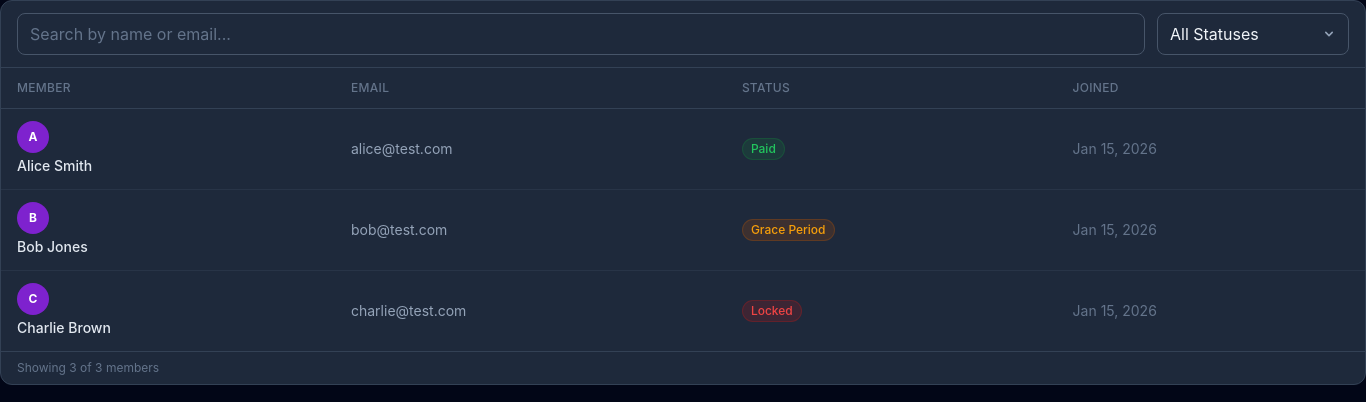
Scenario: MemberTable — search filtering › filters members by email search
Step 1. Type "bob@" into the field with placeholder "Search by name or email..." → (581, 34), box [17,13,1145,55]
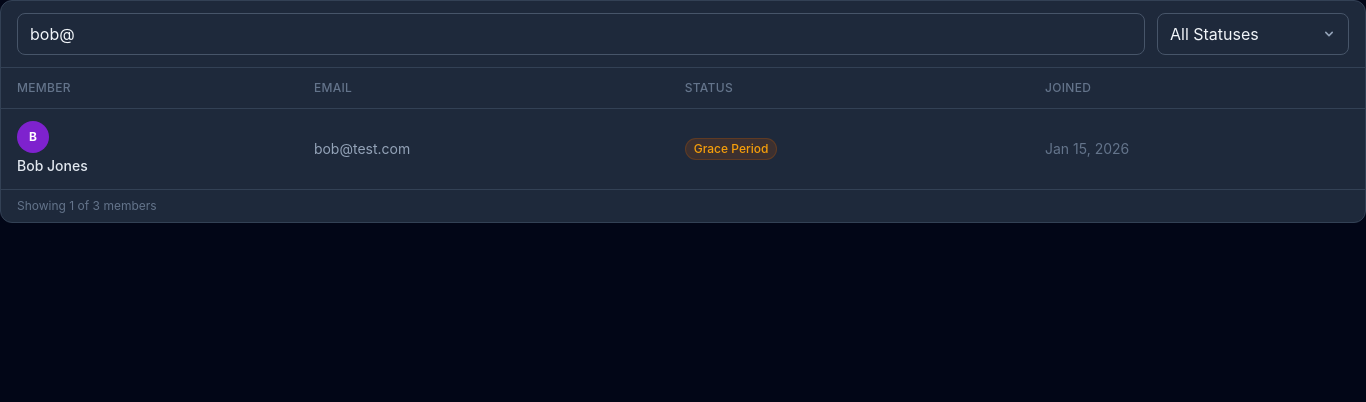
Expected: the text "Bob Jones" is shown, [17,157,88,174]
Expected: the link "Alice Smith" is gone
